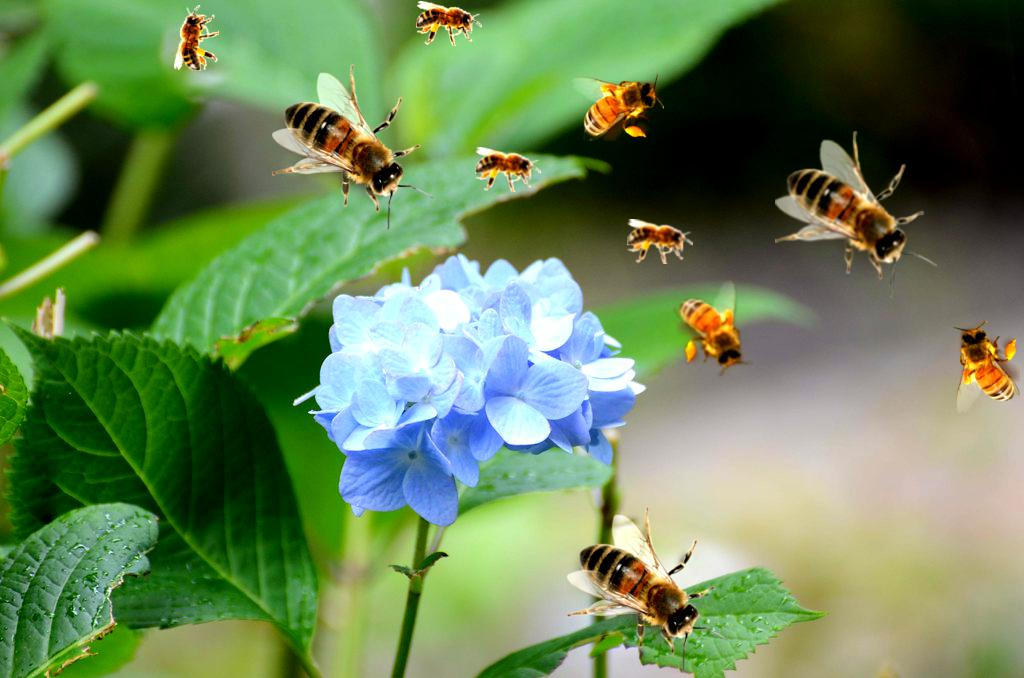Bee: (775, 131, 937, 298), (272, 64, 434, 231), (567, 506, 729, 673), (670, 277, 754, 382), (571, 73, 664, 141), (952, 321, 1020, 414), (174, 5, 219, 71), (627, 219, 693, 264), (475, 147, 541, 192), (416, 1, 482, 46)
